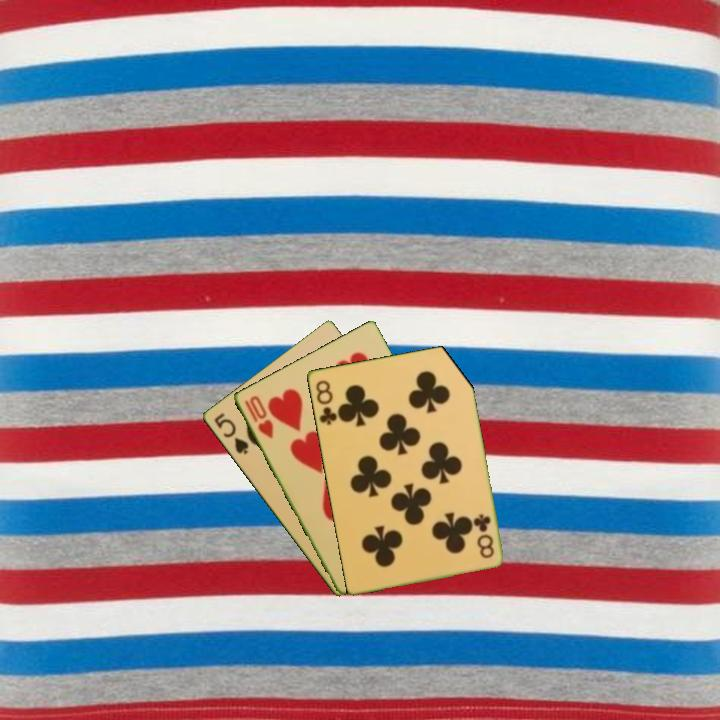10h: (240, 392, 276, 441)
5s: (210, 409, 251, 458)
8c: (312, 376, 340, 428), (470, 510, 497, 561)
